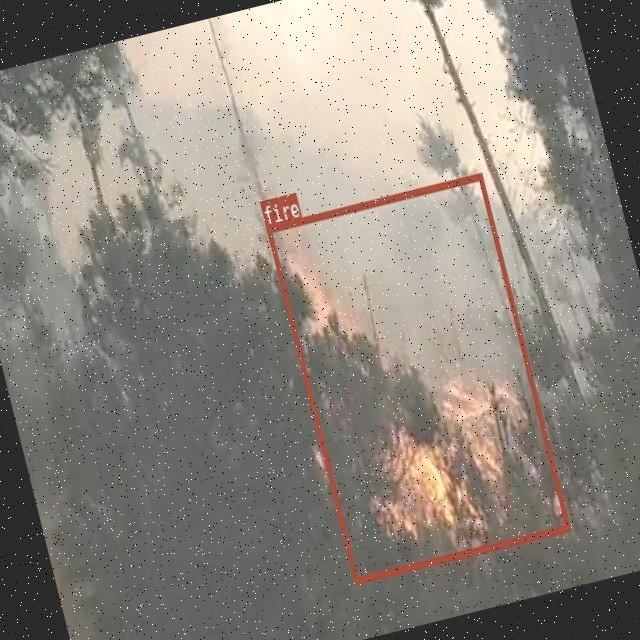fire: (265, 172, 569, 582)
